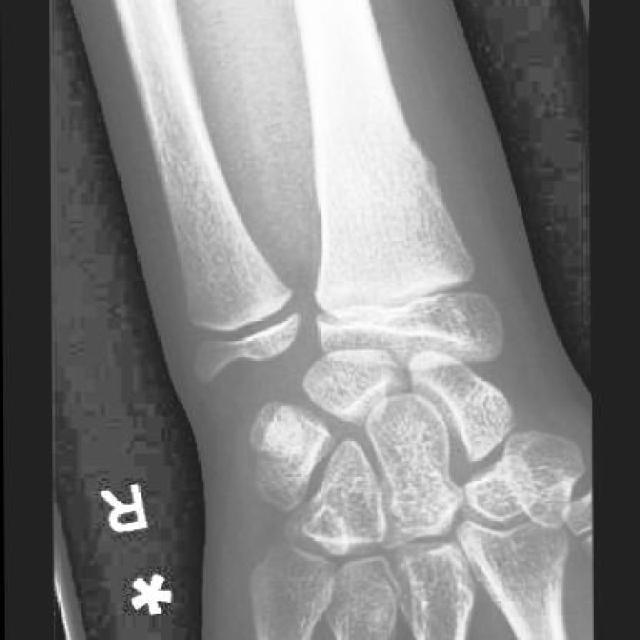Fracture: (305, 146, 461, 232)
